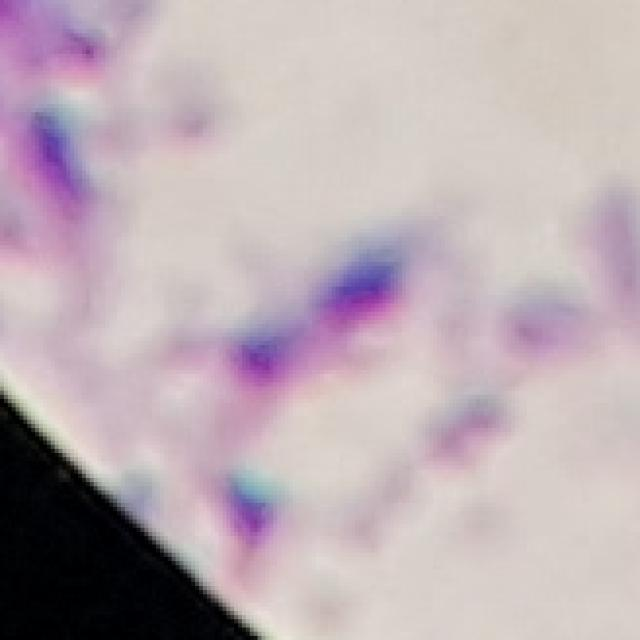non-sperm: (220, 238, 409, 399)
